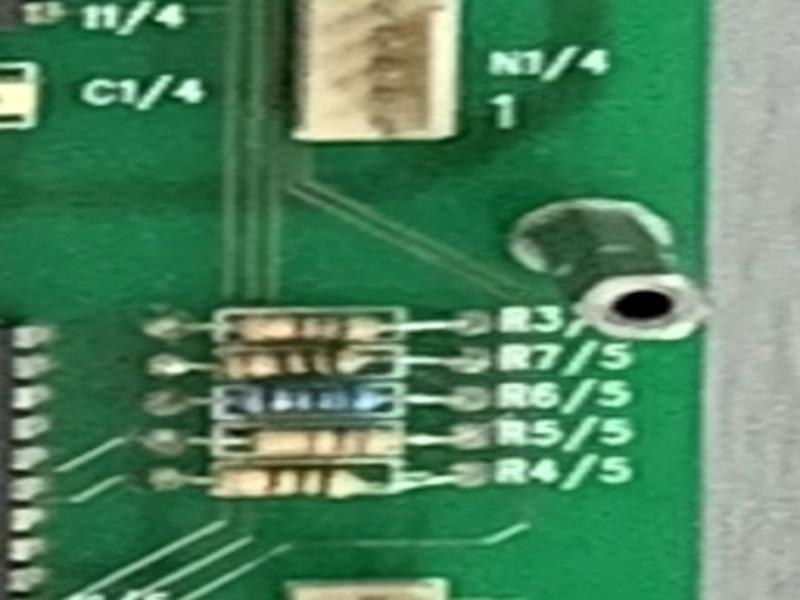Resistor: (214, 344, 389, 381), (219, 308, 400, 343), (217, 385, 401, 418), (220, 427, 402, 457), (212, 468, 376, 501)
